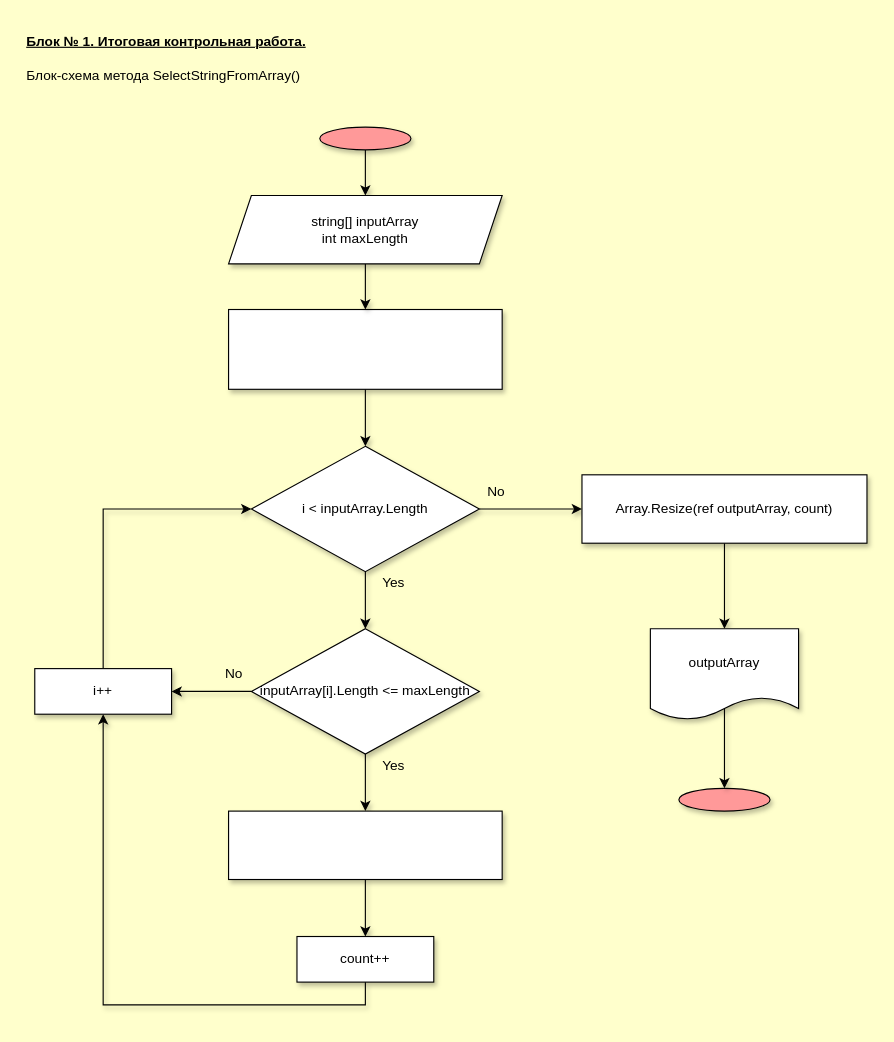
Image size: 894x1042. Some labels were removed from this diagram. Each missing label, with the centre of its shape:
"finish" goes at [725,801].
"int i = 0 int count = 0 string[] outputArray" goes at [366,350].
"outputArray[count] = inputArray[i]" goes at [366,846].
"start" goes at [366,139].
